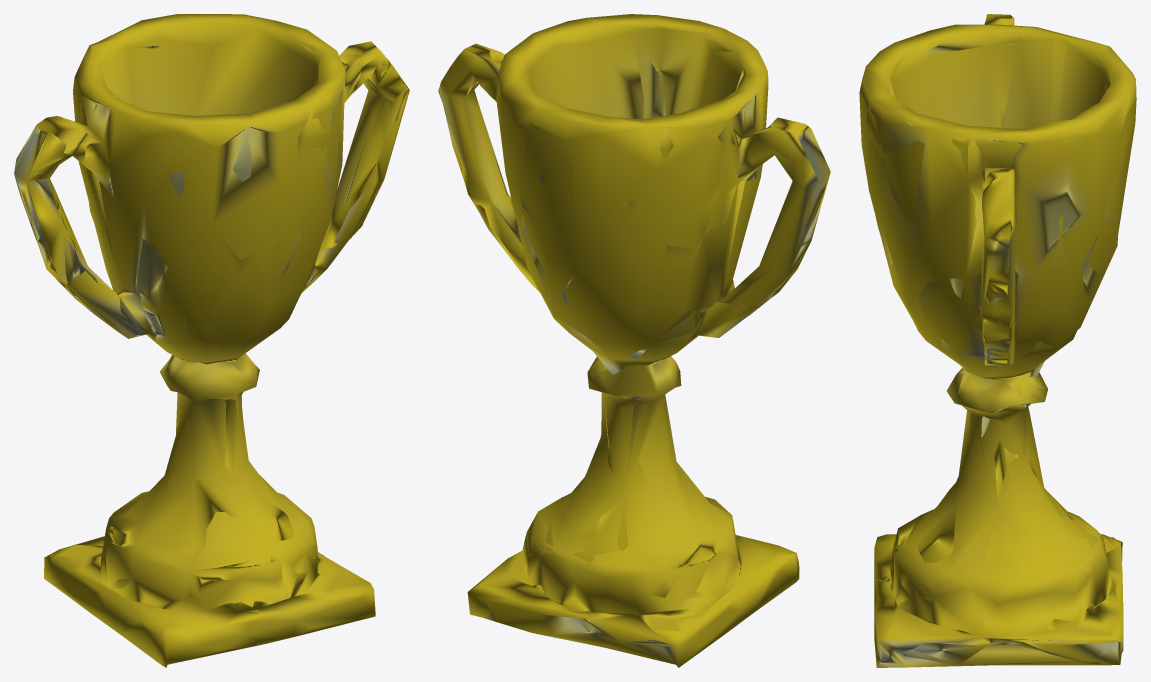
File: gen3d-gold-trophy-lod0.glb
3 renders of one model, left to right at view 1: azimuth 30°, elevation 25°; view 2: azimuth 150°, elevation 25°; view 3: azimuth 270°, elevation 25°, orthographic.
Visible parts, largest first — view 1: part_0; view 2: part_0; view 3: part_0.
Boxes of the visible parts, x1,y1,x2,y2 form: part_0: (14,14,409,667); part_0: (438,14,830,667); part_0: (859,14,1136,667).
Bounding box in the file's own units: 0.7571 × 1 × 0.4669.
